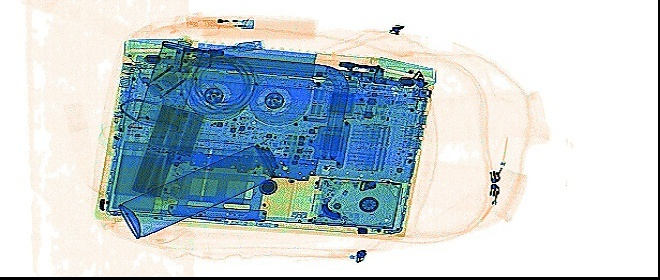lighter: (178, 13, 254, 28)
powerbank: (130, 100, 204, 197)
pressure: (117, 141, 278, 238)
zippooil: (130, 36, 202, 128)
